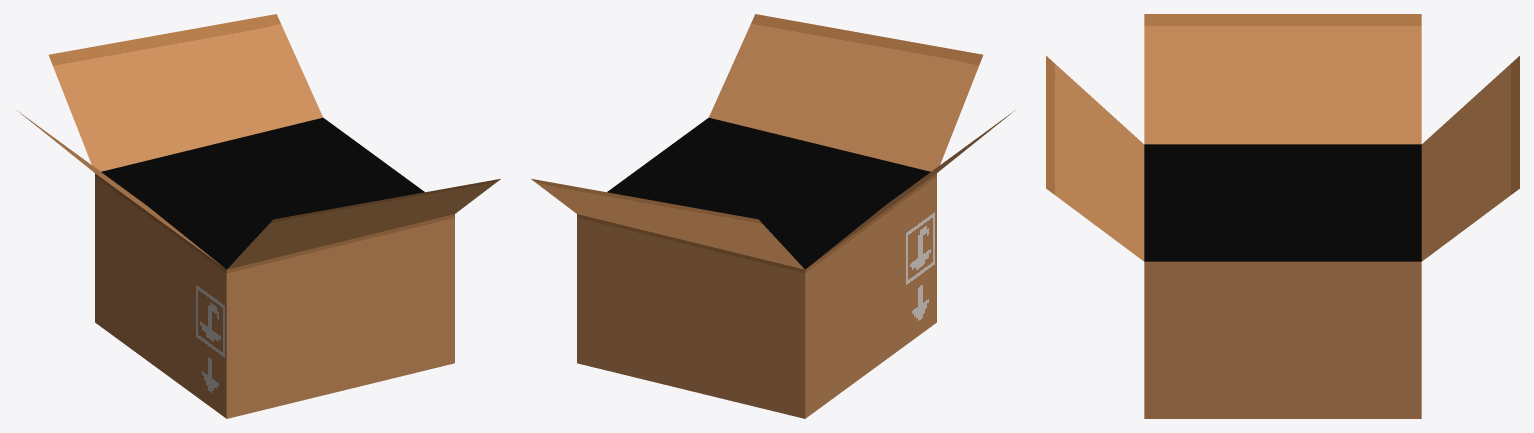
File: CardboardBox.gltf
3 views of the same model, side by side, from view 1: azimuth 30°, elevation 25°; view 2: azimuth 150°, elevation 25°; view 3: azimuth 270°, elevation 25° (orthographic). The views are drawn at different scales.
Parts seen in each view (by area): view 1: plane; view 2: plane; view 3: plane.
Part boxes in pixels (x1,y1,x2,y2): plane: (16,14,500,418); plane: (531,14,1015,418); plane: (1046,14,1519,418).
Size of the model in its own units: 1.35 by 0.9786 by 1.71.
1 material, 1 textured.
